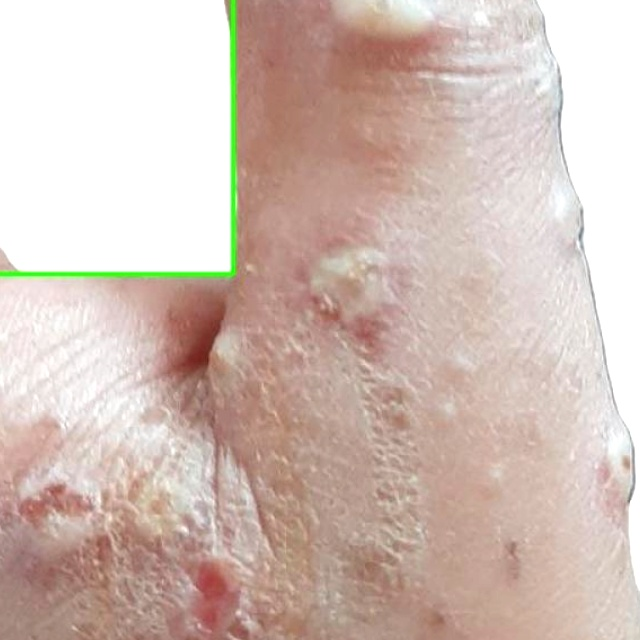Scabies: (0, 0, 233, 273)
